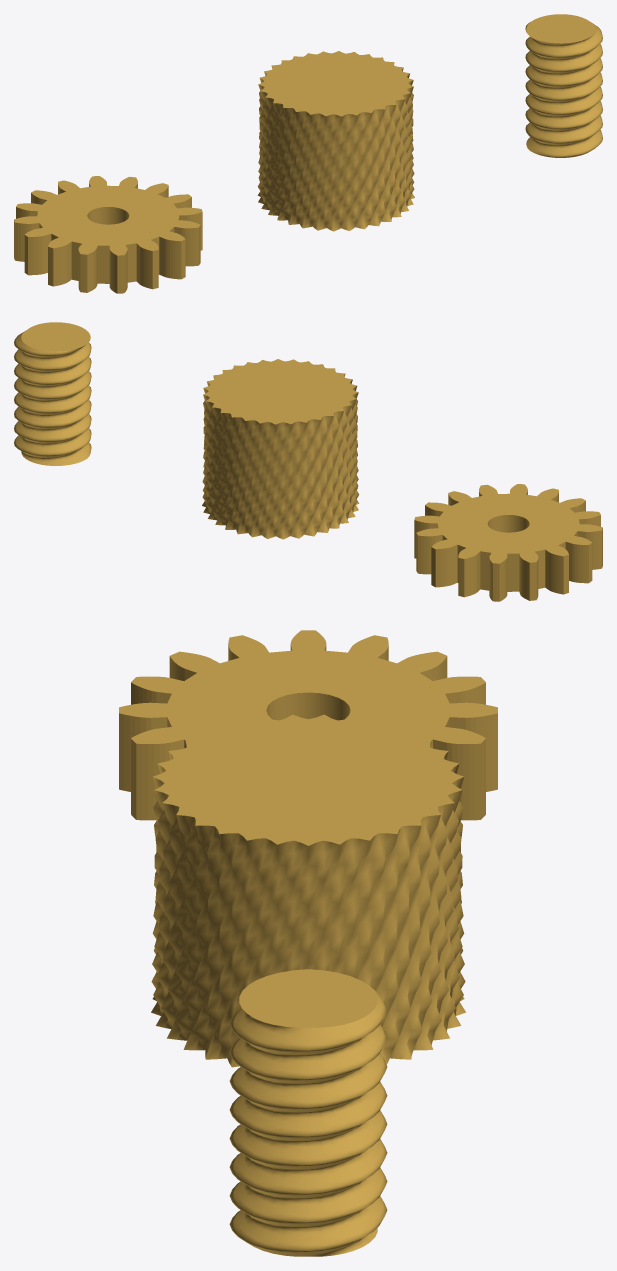
The model's file is solids_parts.glb.
3 renders of one model, top to bottom at view 1: azimuth 30°, elevation 25°; view 2: azimuth 150°, elevation 25°; view 3: azimuth 270°, elevation 25°, orthographic. The views are drawn at different scales.
Parts seen in each view (by area): view 1: gear; view 2: gear; view 3: gear.
Boxes of the visible parts, <box> form: gear: <box>14,14,602,293</box>; gear: <box>14,322,602,601</box>; gear: <box>119,630,497,1256</box>.
Bounding box in the file's own units: 0.1255 × 0.024 × 0.036.
